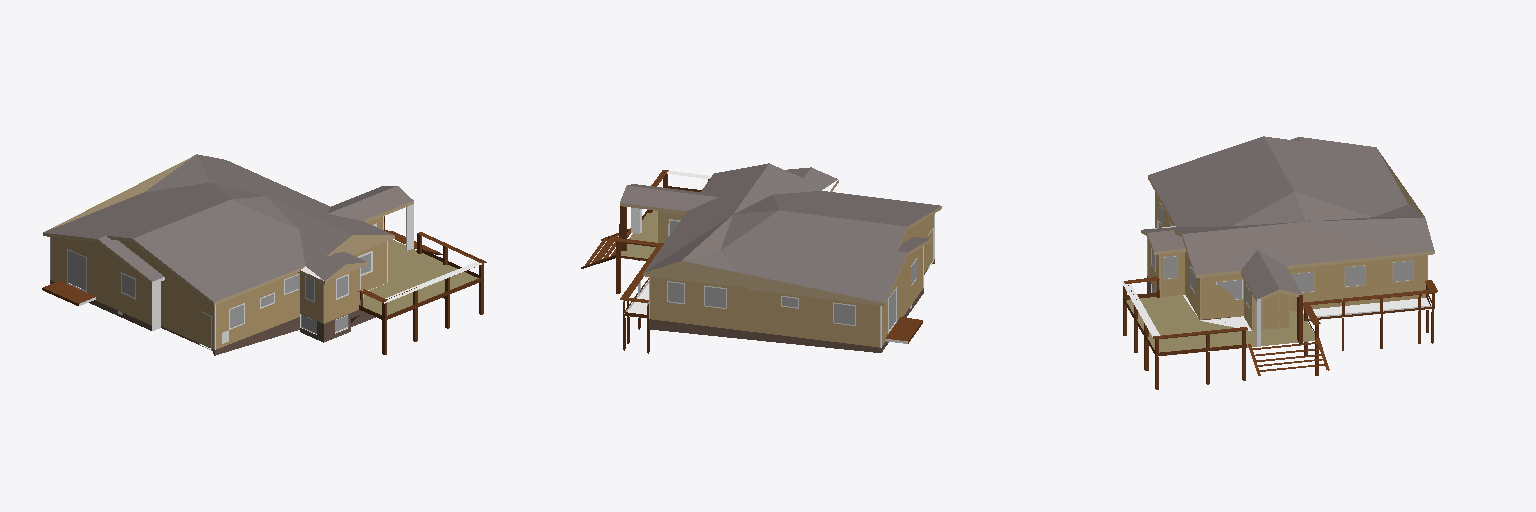
Rendered from House.obj.
The picture shows the model from 3 angles: view 1: azimuth 30°, elevation 25°; view 2: azimuth 150°, elevation 25°; view 3: azimuth 270°, elevation 25°; orthographic projection.
Parts seen in each view (by area): view 1: Mesh35 Model, Mesh65 Model, Mesh22 Group1_1_1 Model; view 2: Mesh35 Model, Mesh66 Model; view 3: Mesh35 Model, Mesh66 Model, Mesh65 Model.
Boxes of the visible parts, x1=… form: Mesh35 Model: x1=42, y1=154, x2=483, y2=355; Mesh65 Model: x1=384, y1=233, x2=486, y2=303; Mesh22 Group1_1_1 Model: x1=68, y1=250, x2=85, y2=289; Mesh35 Model: x1=620, y1=163, x2=941, y2=352; Mesh66 Model: x1=613, y1=238, x2=663, y2=302; Mesh35 Model: x1=1123, y1=136, x2=1434, y2=389; Mesh66 Model: x1=1303, y1=280, x2=1437, y2=324; Mesh65 Model: x1=1121, y1=281, x2=1242, y2=338.
Size of the model in its own units: 869 by 260 by 676.